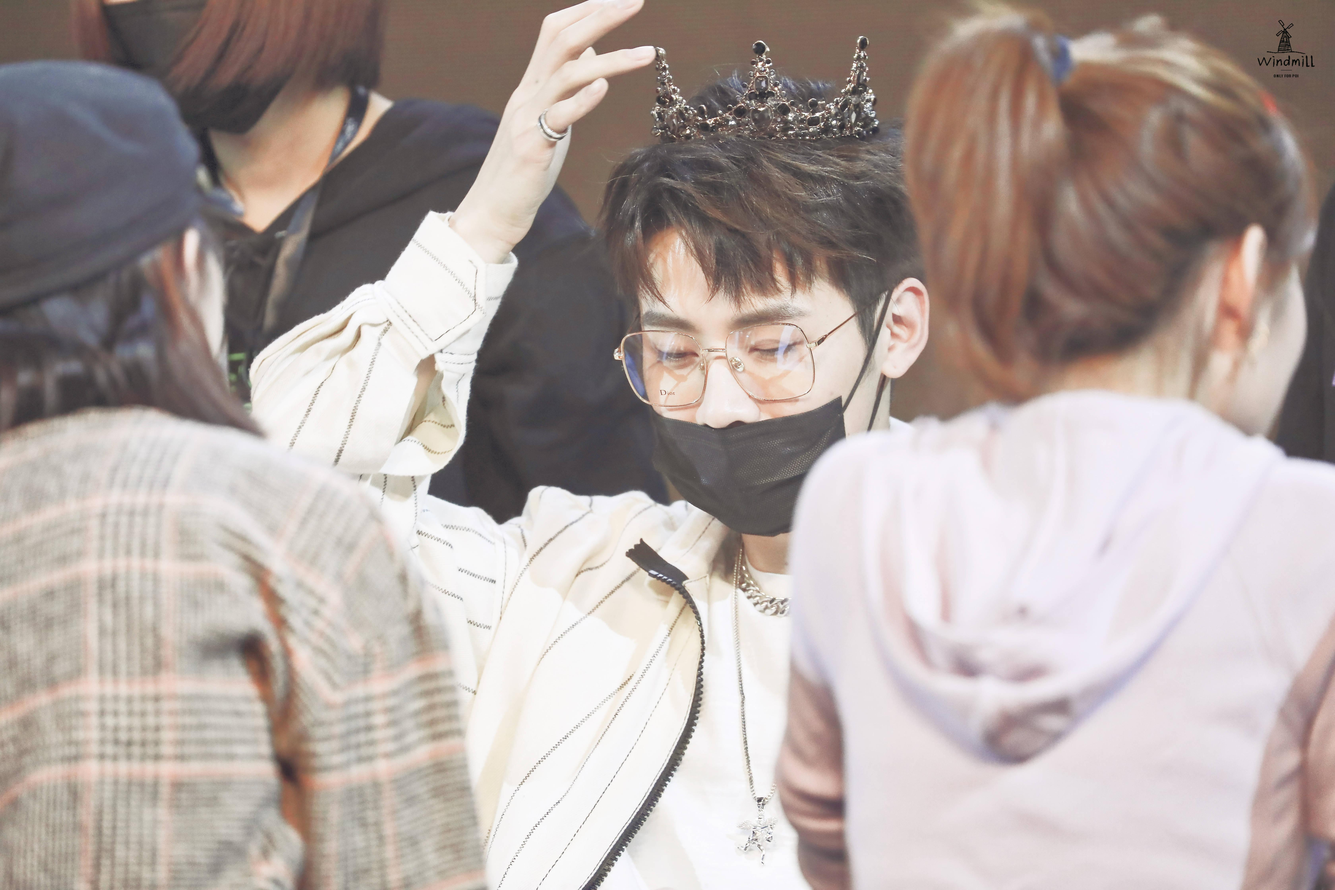WRONG: (633, 280, 854, 545)
